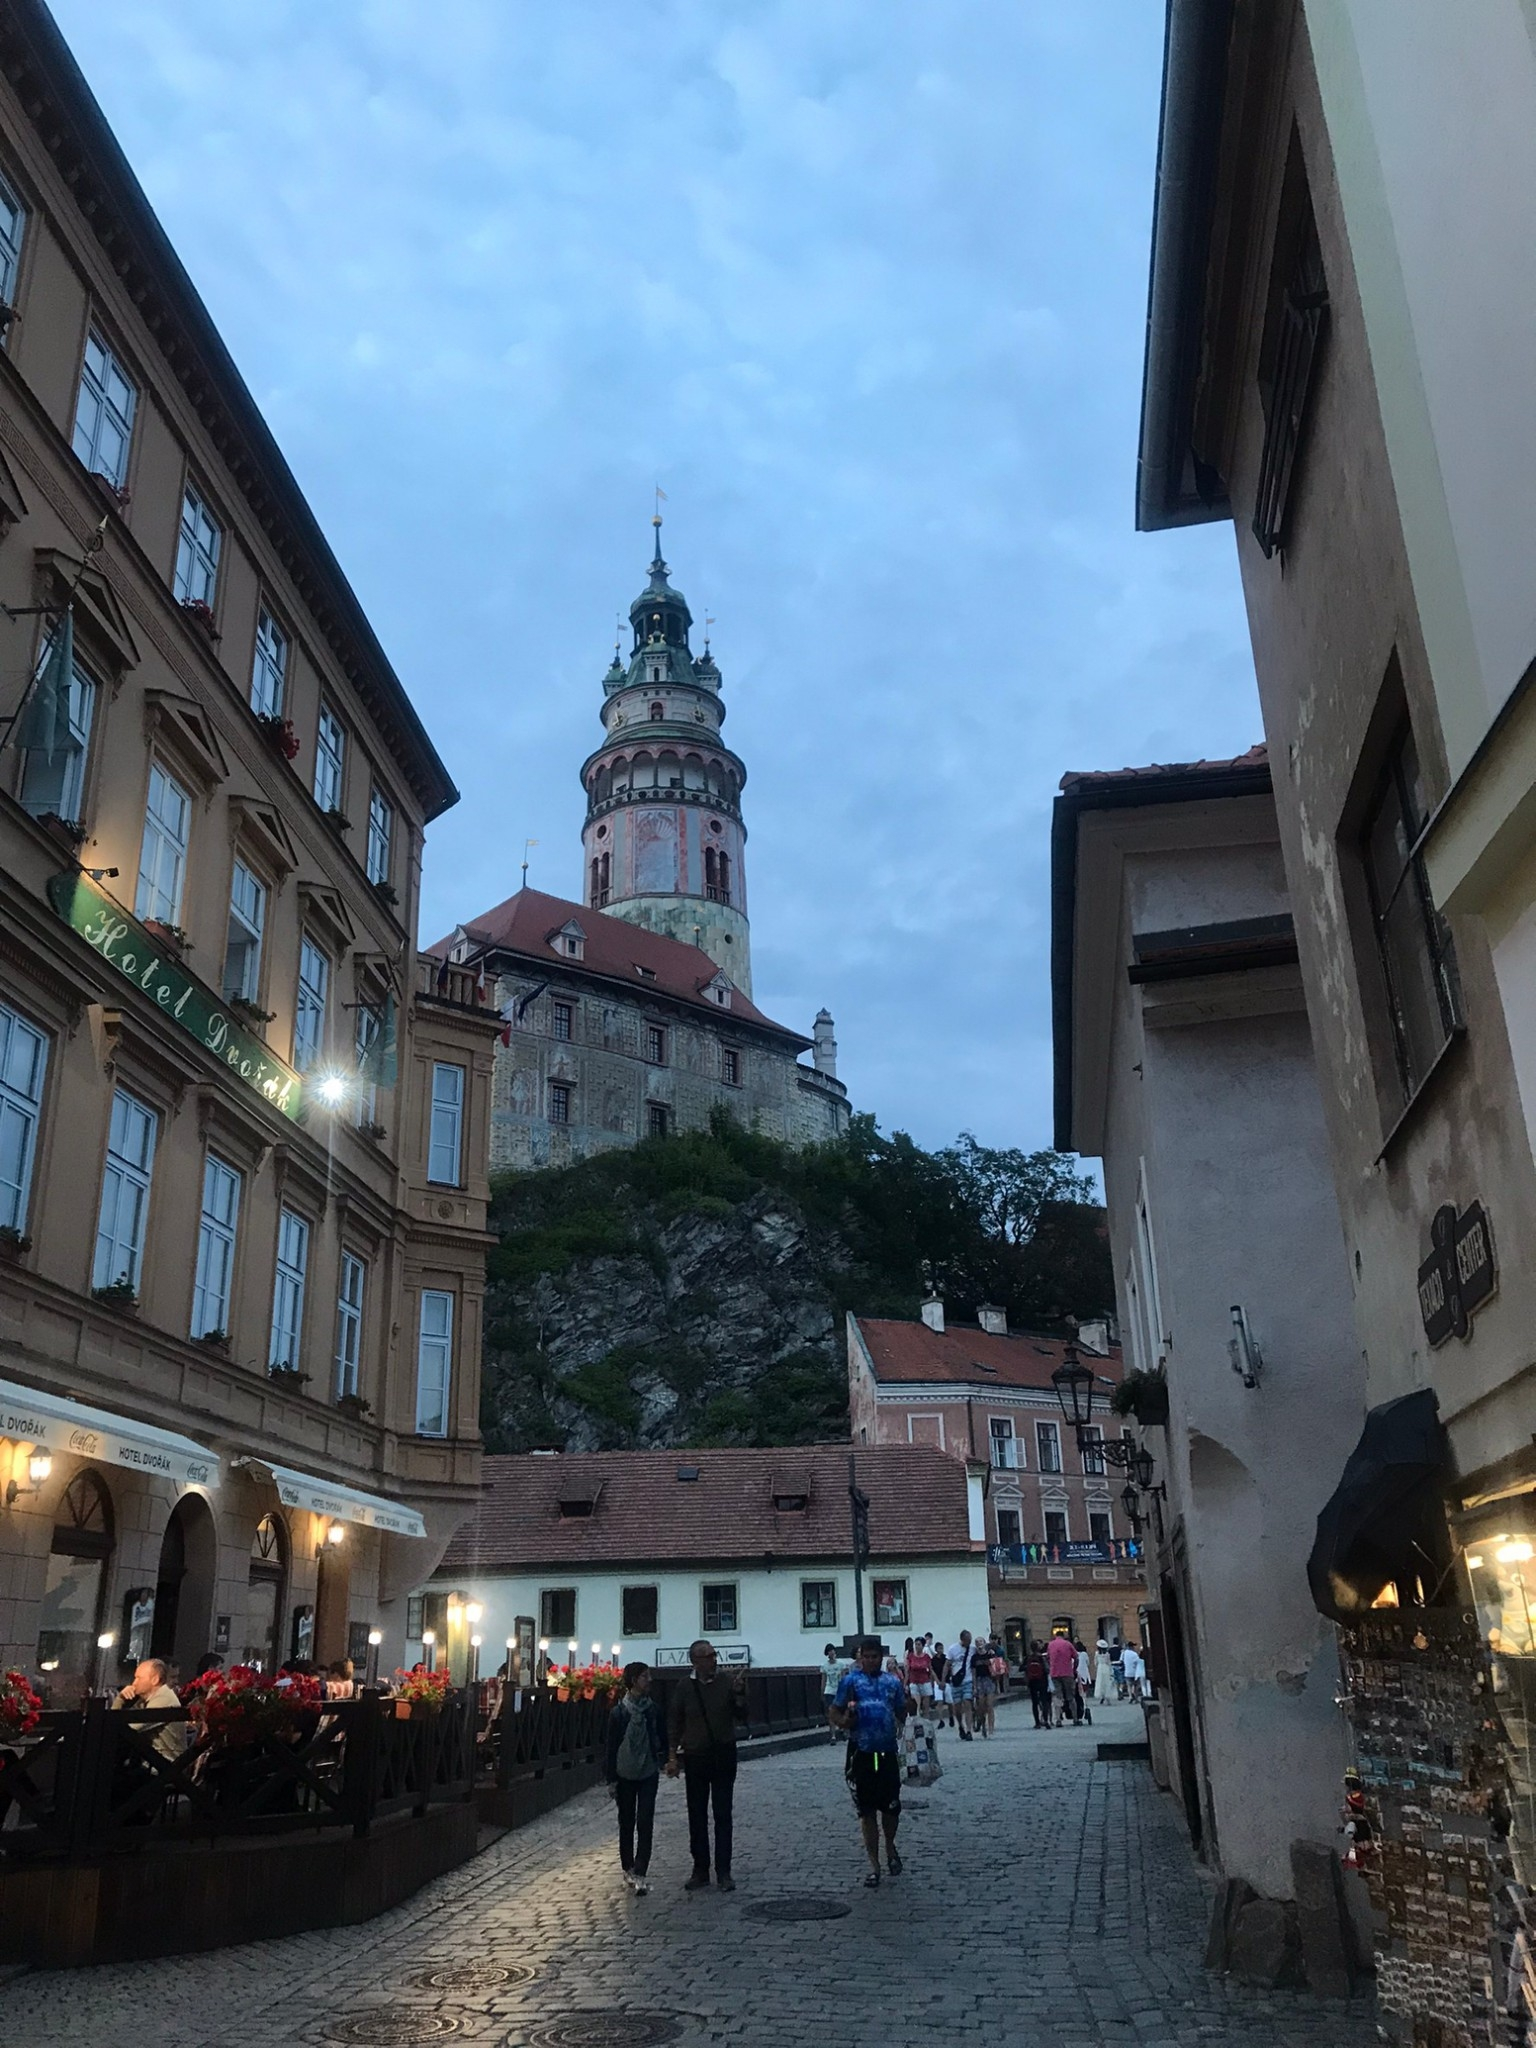people: (827, 1628, 924, 1909), (669, 1641, 744, 1902), (605, 1647, 666, 1899), (1031, 1615, 1092, 1728), (121, 1657, 182, 1767)
